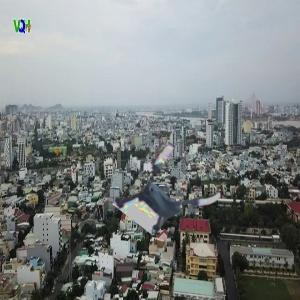drone: (129, 151, 219, 241)
